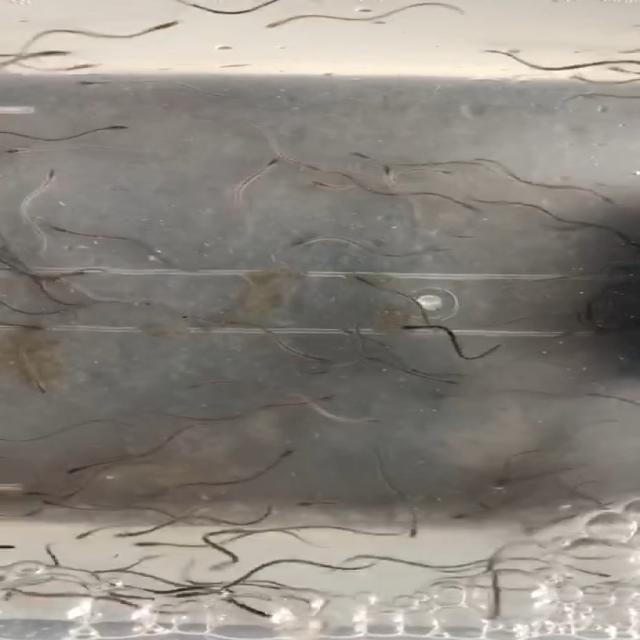active_glass_eel: (11, 46, 83, 66), (63, 456, 117, 477), (128, 532, 186, 550), (203, 553, 256, 572), (29, 163, 66, 190), (95, 115, 142, 136), (422, 162, 473, 180), (268, 444, 307, 466), (254, 17, 299, 36), (243, 608, 303, 621), (50, 266, 95, 283), (113, 524, 160, 540), (67, 523, 110, 540), (56, 60, 101, 76), (138, 17, 180, 34), (396, 319, 435, 337), (605, 229, 640, 249), (78, 80, 131, 93), (34, 217, 76, 233), (0, 142, 37, 160), (342, 272, 380, 289), (17, 503, 51, 520), (352, 148, 384, 166), (311, 177, 343, 195), (584, 187, 616, 205), (264, 149, 289, 172), (448, 199, 486, 214), (6, 320, 46, 334), (406, 522, 434, 542), (290, 501, 336, 512), (284, 239, 320, 253), (575, 568, 611, 582), (27, 378, 54, 396), (298, 350, 328, 366), (378, 165, 397, 188), (355, 416, 384, 431), (294, 161, 330, 173), (42, 497, 69, 513), (168, 589, 205, 600), (606, 64, 638, 76), (561, 75, 598, 85), (310, 394, 342, 405), (0, 540, 19, 556), (442, 380, 467, 392)
